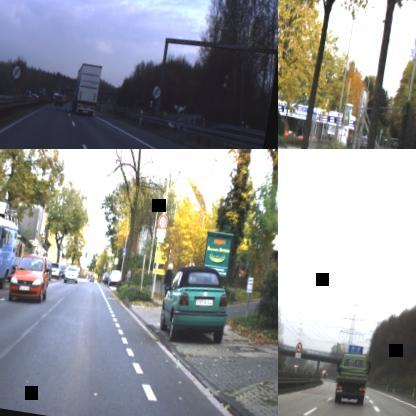no overtaking: (294, 341, 302, 353)
restriction ends: (150, 84, 162, 100), (10, 64, 22, 80)
speed limit 30: (156, 212, 168, 230)
